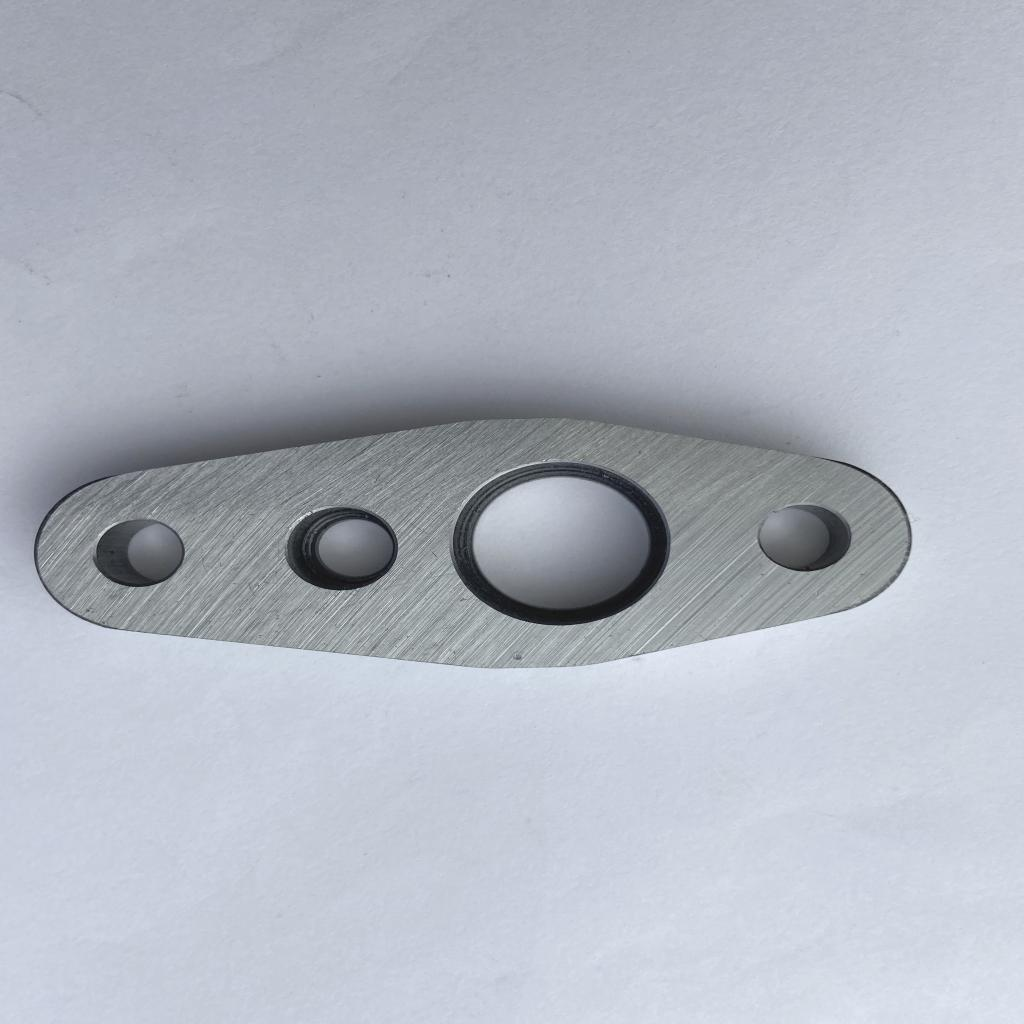chap: (507, 649, 527, 663)
lines: (92, 480, 222, 510), (99, 585, 124, 625)
